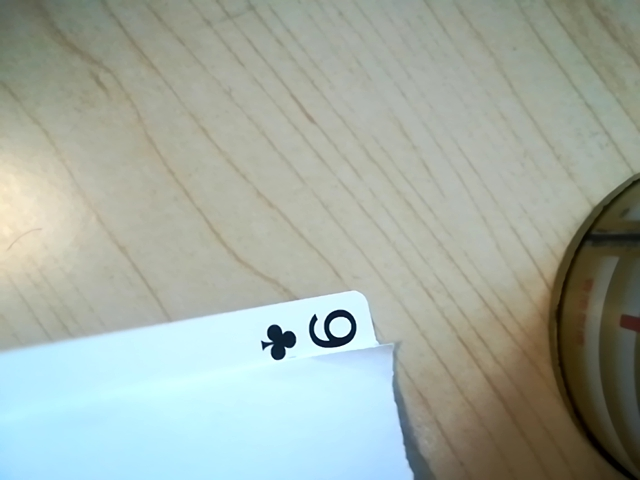mh 9: (256, 299, 376, 364)
